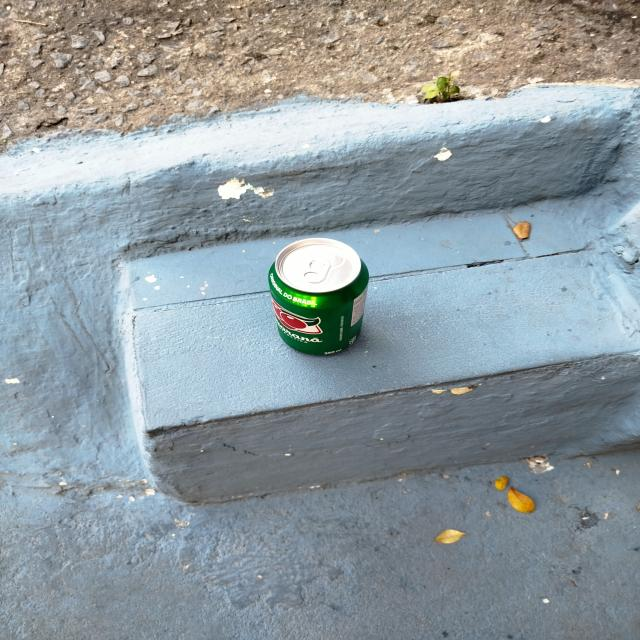Guarana: (267, 237, 370, 354)
